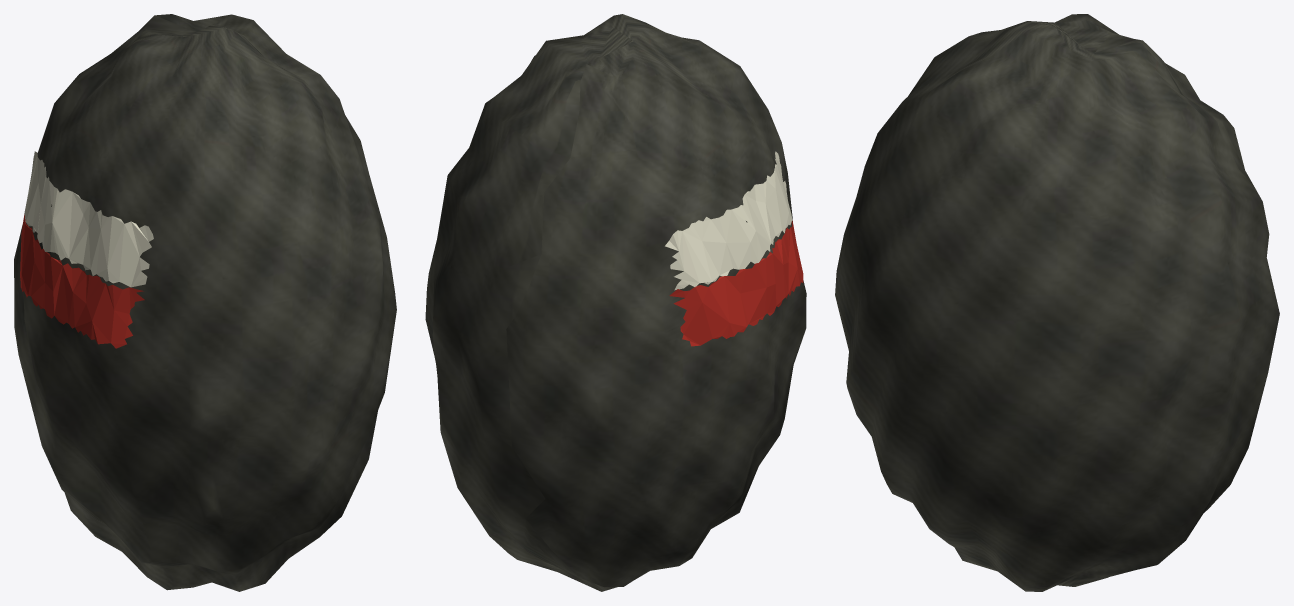
Rendered from trail-marker.glb.
3 renders of one model, left to right at view 1: azimuth 30°, elevation 25°; view 2: azimuth 150°, elevation 25°; view 3: azimuth 270°, elevation 25°, orthographic. The views are drawn at different scales.
Parts seen in each view (by area): view 1: SM_AlpineTrailMarker; view 2: SM_AlpineTrailMarker; view 3: SM_AlpineTrailMarker.
Boxes of the visible parts, <box> form: SM_AlpineTrailMarker: <box>14,14,396,591</box>; SM_AlpineTrailMarker: <box>425,14,806,591</box>; SM_AlpineTrailMarker: <box>835,14,1279,591</box>.
Size of the model in its own units: 0.3712 by 0.6246 by 0.4452.
3 materials, 1 textured.
